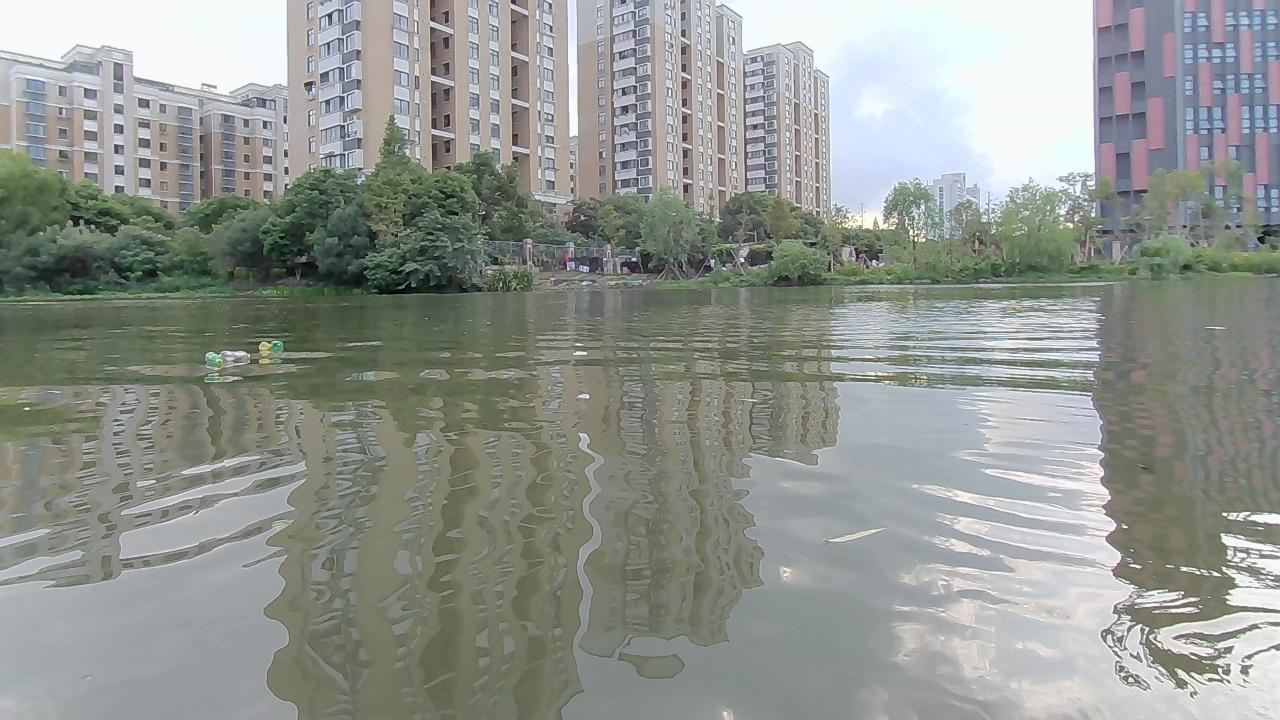bottle: (221, 347, 254, 367), (201, 350, 223, 367), (269, 339, 286, 357), (256, 340, 274, 357)
